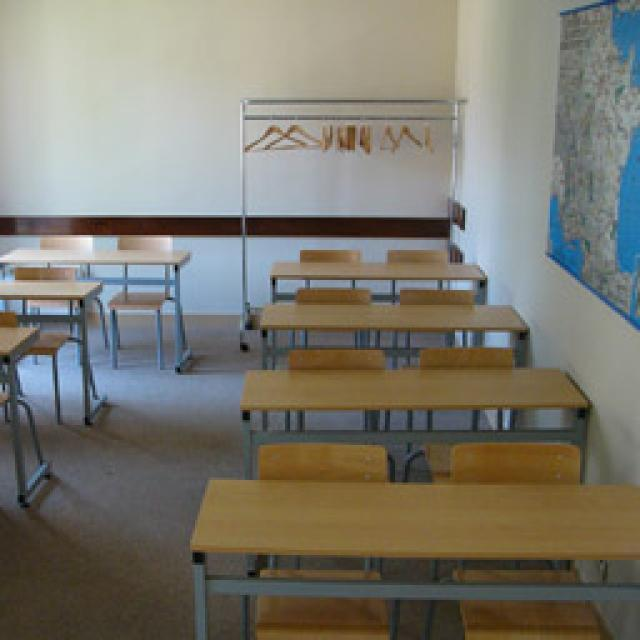Smoke: (5, 160, 85, 288)
